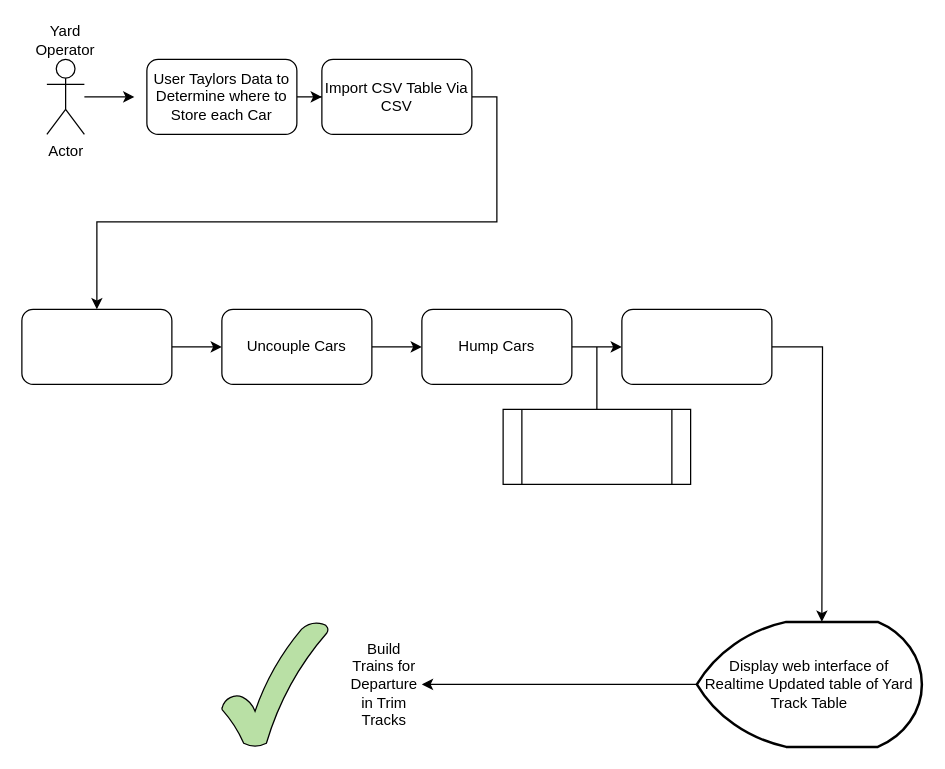
The diagram is 945 pixels wide and 769 high, and some of its shapes have lost their labels. The centre of each missing label's shape, as x and y in pixels:
Run Yard Automation Software/Hardware to swtich to Bowl: the point at 596,446
shove cars: the point at 96,346
Store Cars in bowl: the point at 696,346
